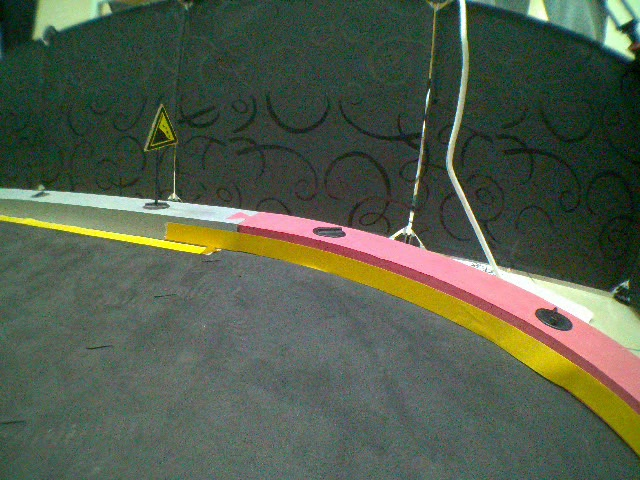fast: (143, 102, 180, 155)
